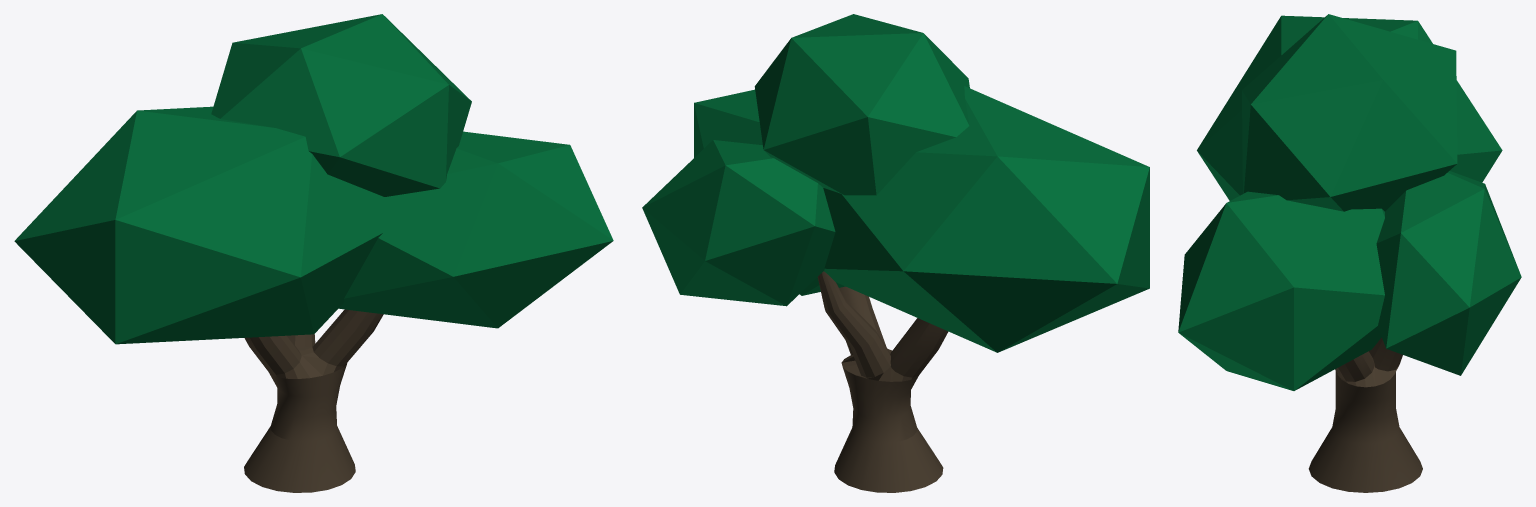
Rendered from Oak1.fbx.
3 renders of one model, left to right at view 1: azimuth 30°, elevation 25°; view 2: azimuth 150°, elevation 25°; view 3: azimuth 270°, elevation 25°, orthographic. The views are drawn at different scales.
Parts seen in each view (by area): view 1: pPlatonic6; view 2: pPlatonic6; view 3: pPlatonic6.
Part boxes in pixels (bbox=[...]): pPlatonic6: bbox=[14, 14, 613, 492]; pPlatonic6: bbox=[642, 14, 1149, 492]; pPlatonic6: bbox=[1178, 14, 1521, 492].
Bounding box in the file's own units: 3.39 × 2.87 × 2.
